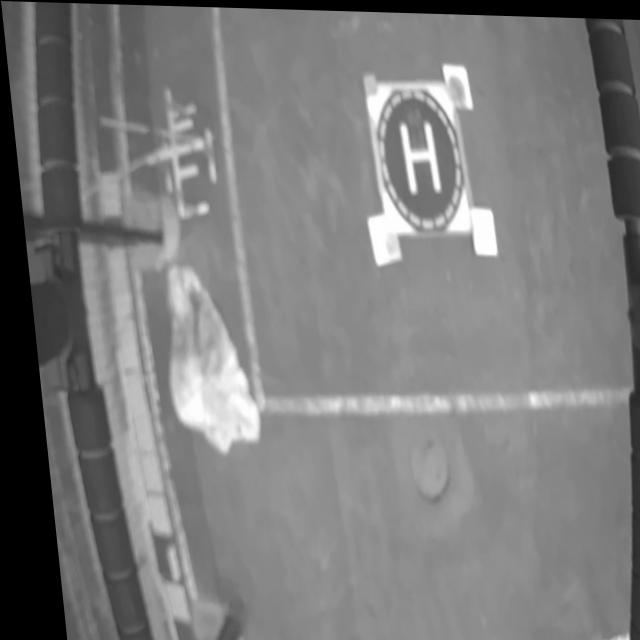Helipad: (395, 116, 437, 191)
